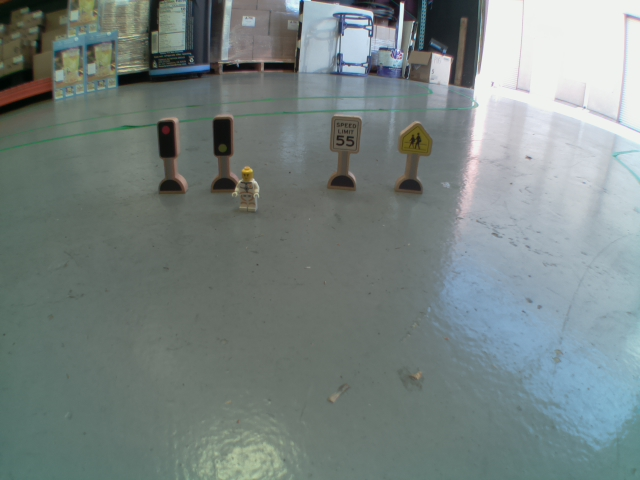Green Traffic Light: (210, 115, 232, 158)
Red Traffic Light: (155, 116, 180, 159)
Speed Limit 55: (331, 114, 359, 155)
YIELD: (399, 120, 437, 158)
person: (228, 162, 264, 210)
